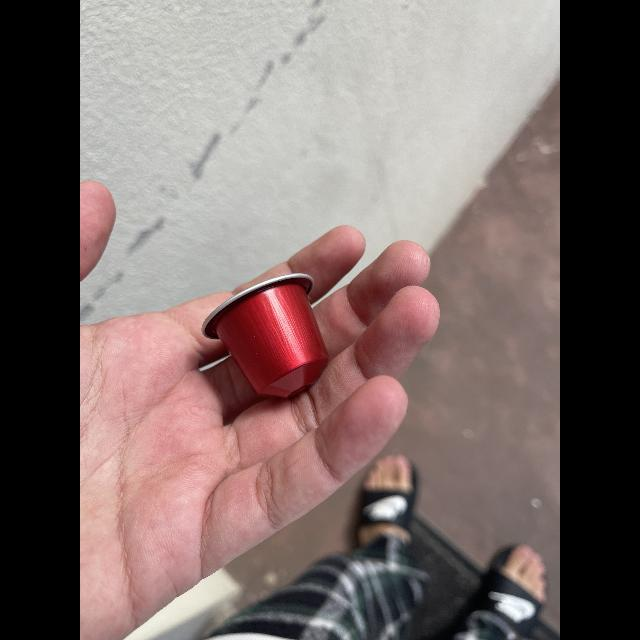intact_capsule: (197, 268, 349, 412)
